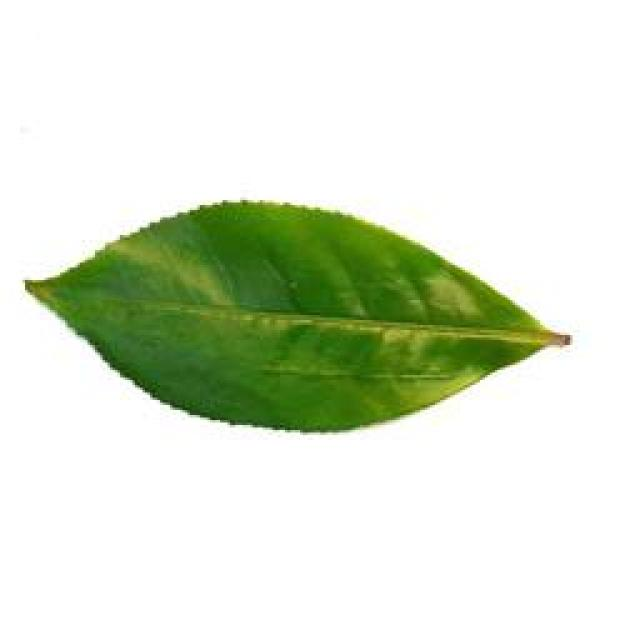Healthy: (20, 193, 578, 438)
